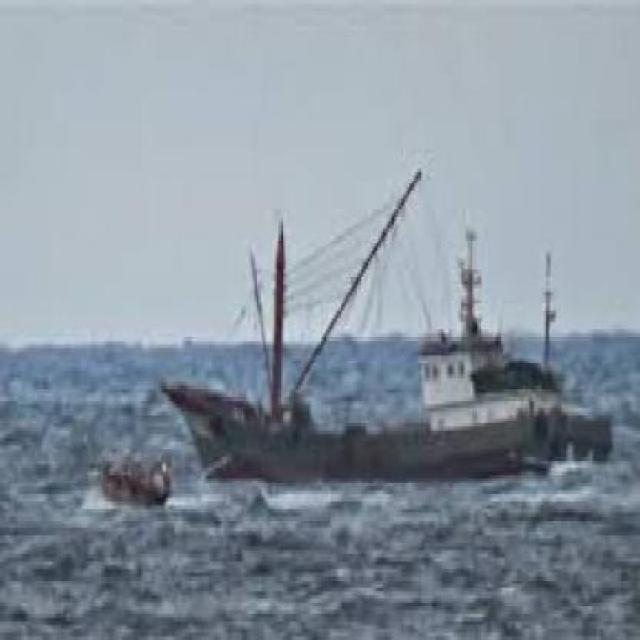fish-b: (158, 154, 630, 506)
